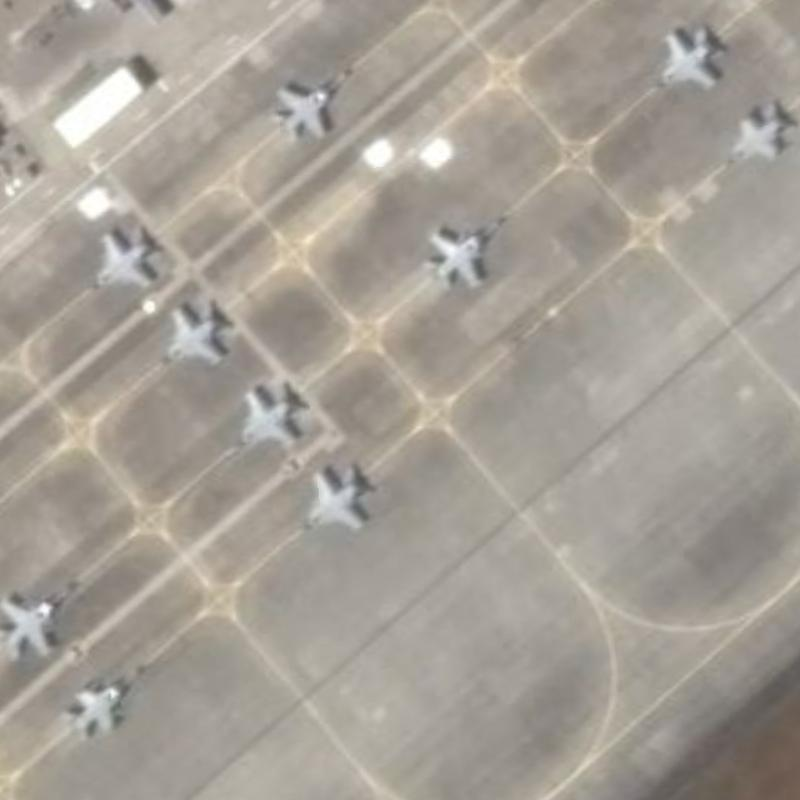A16: (271, 459, 375, 555), (68, 211, 162, 308), (414, 207, 513, 299), (635, 16, 731, 107), (0, 568, 86, 668), (264, 60, 356, 150), (51, 657, 147, 743), (142, 295, 232, 380), (706, 94, 794, 179), (209, 381, 303, 455)
